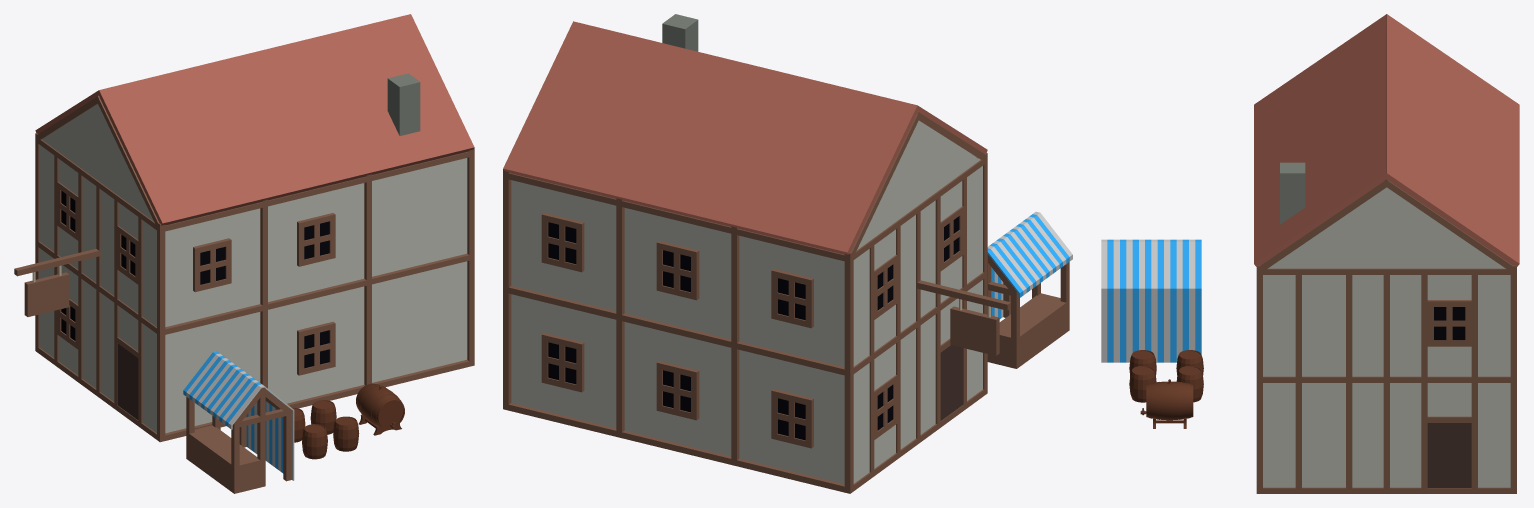
The model's file is timberframedvintner_blue_white.obj.
The picture shows the model from 3 angles, left to right: view 1: azimuth 30°, elevation 25°; view 2: azimuth 150°, elevation 25°; view 3: azimuth 270°, elevation 25°; orthographic projection. The views are drawn at different scales.
Visible parts, largest first — view 1: Cube.005, Cube.007_Cube.011, Cube.011_Cube.015, Cube.018_Cube.016, Cube.026_Cube.019, barrel_Untitled, Cube.006_Cube.010, Cube.001_Cube.058, Cube.056_Cube.081, Cube.013_Cube.080, Cube.147_Cube.153, Cube.012_Cube.017 (+29 smaller); view 2: Cube.005, Cube.007_Cube.011, Cube.023_Cube.026, Cube.022_Cube.025, Cube.021_Cube.024, Cube.028, Cube.019_Cube.022, Cube.017_Cube.021, Cube.014_Cube.018, Cube.008, Cube.015_Cube.020, Cube.020_Cube.023 (+23 smaller); view 3: Cube.005, Cube.007_Cube.011, Cube.147_Cube.153, Cube.003, Cube.033, barrel_Untitled, Cube.032, Cube.016_Cube.013, Cube.012_Cube.017, Cube.031, Cube.027, Cube.034 (+9 smaller).
Part boxes in pixels (x1=…): Cube.005: x1=39, y1=104, x2=467, y2=433; Cube.007_Cube.011: x1=35, y1=14, x2=474, y2=225; Cube.011_Cube.015: x1=162, y1=253, x2=472, y2=334; Cube.018_Cube.016: x1=162, y1=151, x2=469, y2=231; Cube.026_Cube.019: x1=157, y1=223, x2=165, y2=442; barrel_Untitled: x1=356, y1=383, x2=404, y2=435; Cube.006_Cube.010: x1=387, y1=73, x2=420, y2=135; Cube.001_Cube.058: x1=297, y1=321, x2=335, y2=375; Cube.056_Cube.081: x1=193, y1=238, x2=231, y2=292; Cube.013_Cube.080: x1=297, y1=213, x2=335, y2=266; Cube.147_Cube.153: x1=246, y1=401, x2=294, y2=480; Cube.012_Cube.017: x1=467, y1=148, x2=474, y2=366; Cube.005: x1=511, y1=120, x2=982, y2=483; Cube.007_Cube.011: x1=503, y1=21, x2=987, y2=254; Cube.023_Cube.026: x1=505, y1=403, x2=848, y2=493; Cube.022_Cube.025: x1=504, y1=286, x2=848, y2=375; Cube.021_Cube.024: x1=505, y1=173, x2=848, y2=261; Cube.028: x1=844, y1=252, x2=853, y2=493; Cube.019_Cube.022: x1=656, y1=361, x2=699, y2=420; Cube.017_Cube.021: x1=541, y1=333, x2=584, y2=392; Cube.014_Cube.018: x1=656, y1=241, x2=699, y2=300; Cube.008: x1=541, y1=213, x2=584, y2=272; Cube.015_Cube.020: x1=771, y1=269, x2=813, y2=328; Cube.020_Cube.023: x1=771, y1=389, x2=813, y2=448; Cube.005: x1=1263, y1=187, x2=1510, y2=487; Cube.007_Cube.011: x1=1254, y1=14, x2=1519, y2=266; Cube.147_Cube.153: x1=1101, y1=288, x2=1201, y2=362; Cube.003: x1=1427, y1=423, x2=1471, y2=487; Cube.033: x1=1427, y1=300, x2=1471, y2=346; barrel_Untitled: x1=1140, y1=379, x2=1193, y2=428; Cube.032: x1=1261, y1=268, x2=1511, y2=274; Cube.016_Cube.013: x1=1262, y1=376, x2=1510, y2=382; Cube.012_Cube.017: x1=1256, y1=265, x2=1262, y2=493; Cube.031: x1=1261, y1=487, x2=1512, y2=493; Cube.027: x1=1510, y1=265, x2=1516, y2=493; Cube.034: x1=1383, y1=268, x2=1389, y2=490.
Size of the model in its own units: 15.3 by 11.25 by 13.34.
